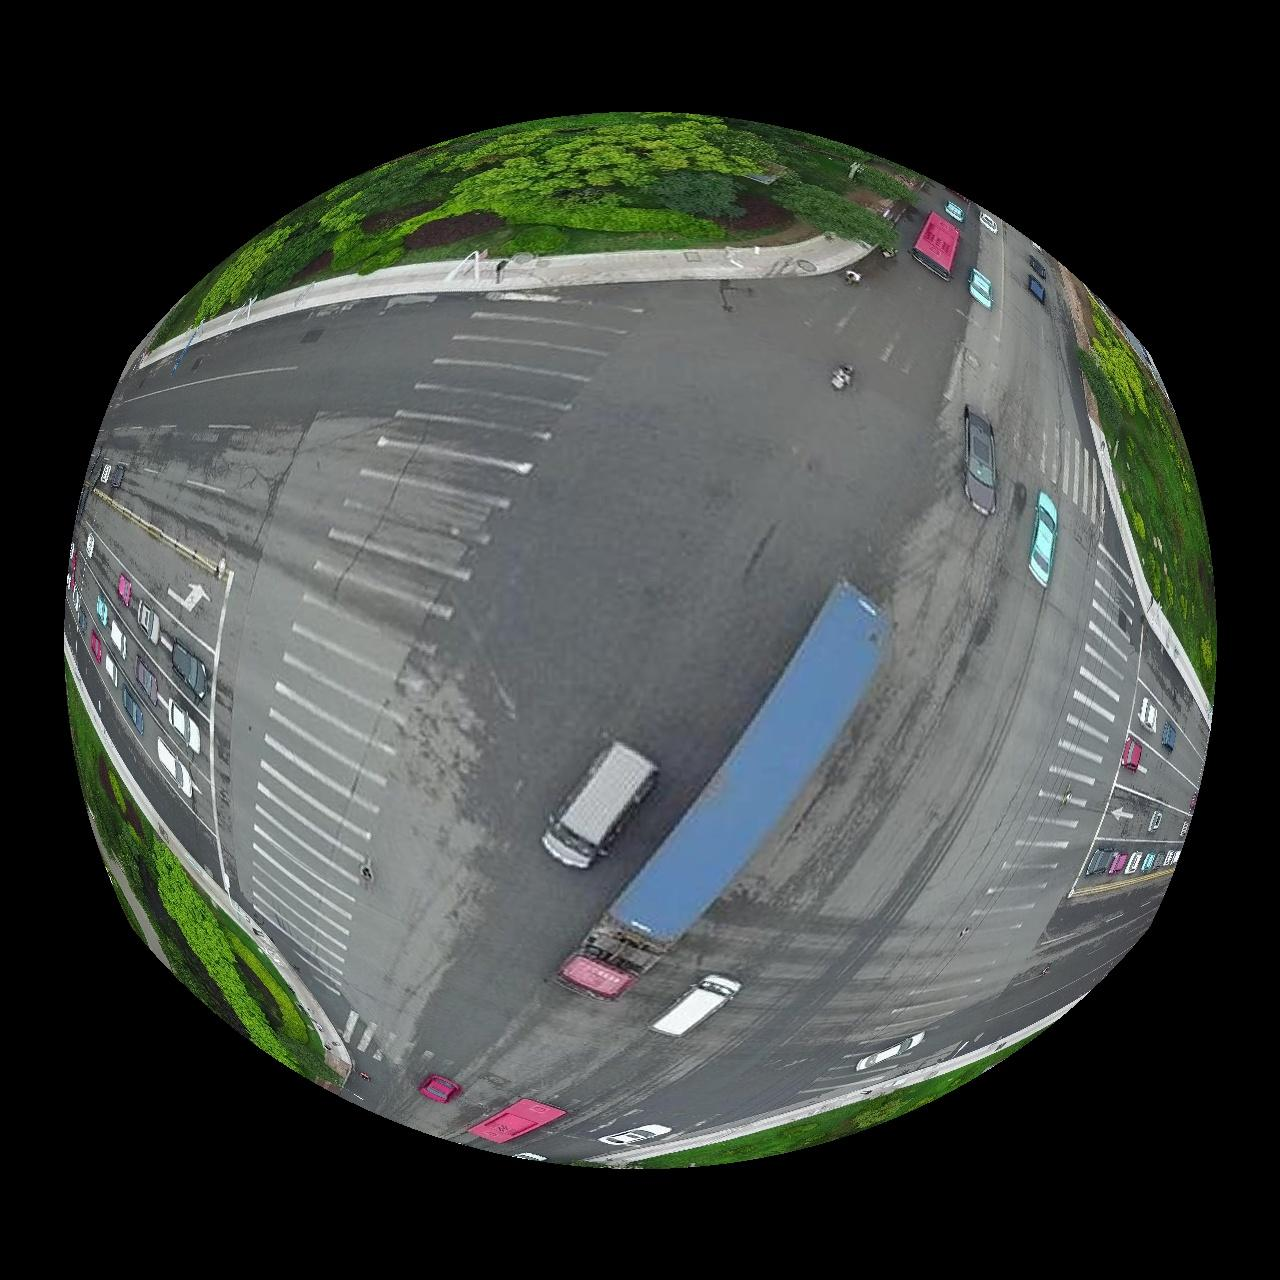cars: (559, 583, 890, 1001), (542, 742, 658, 871), (651, 976, 742, 1039), (470, 1101, 566, 1145), (913, 211, 962, 279), (967, 406, 998, 515), (1032, 490, 1060, 586), (171, 642, 207, 701), (157, 741, 192, 799), (166, 701, 199, 754), (599, 1126, 672, 1149), (418, 1077, 462, 1105), (120, 686, 142, 735), (135, 656, 156, 704), (971, 267, 995, 307), (136, 602, 158, 644), (1088, 850, 1118, 877), (1123, 737, 1146, 771), (1141, 697, 1160, 733), (109, 622, 125, 659), (1163, 721, 1180, 753), (1030, 274, 1048, 302), (116, 573, 130, 606), (1110, 853, 1130, 876), (103, 655, 116, 687), (1126, 853, 1144, 876), (1151, 810, 1165, 832)
trees: (151, 113, 919, 346), (70, 686, 327, 1077), (1080, 291, 1219, 700), (626, 1039, 1036, 1171)
